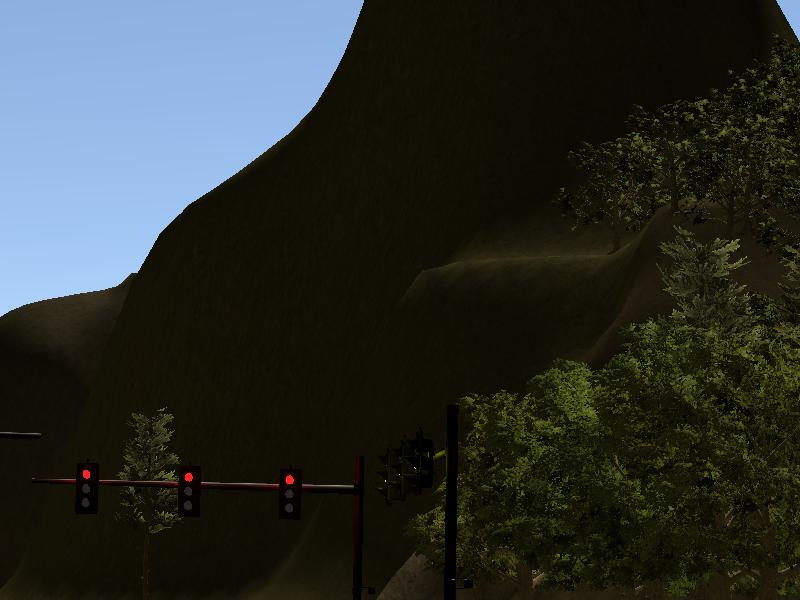Red: (179, 465, 201, 516), (279, 467, 300, 517), (76, 463, 96, 513)
